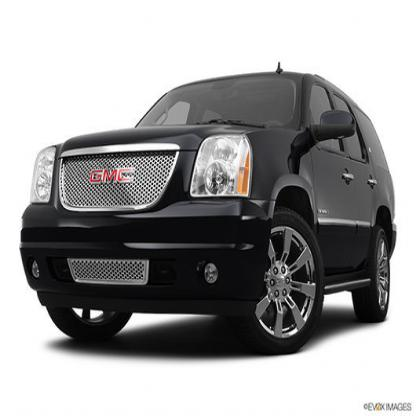car: (20, 64, 399, 357)
